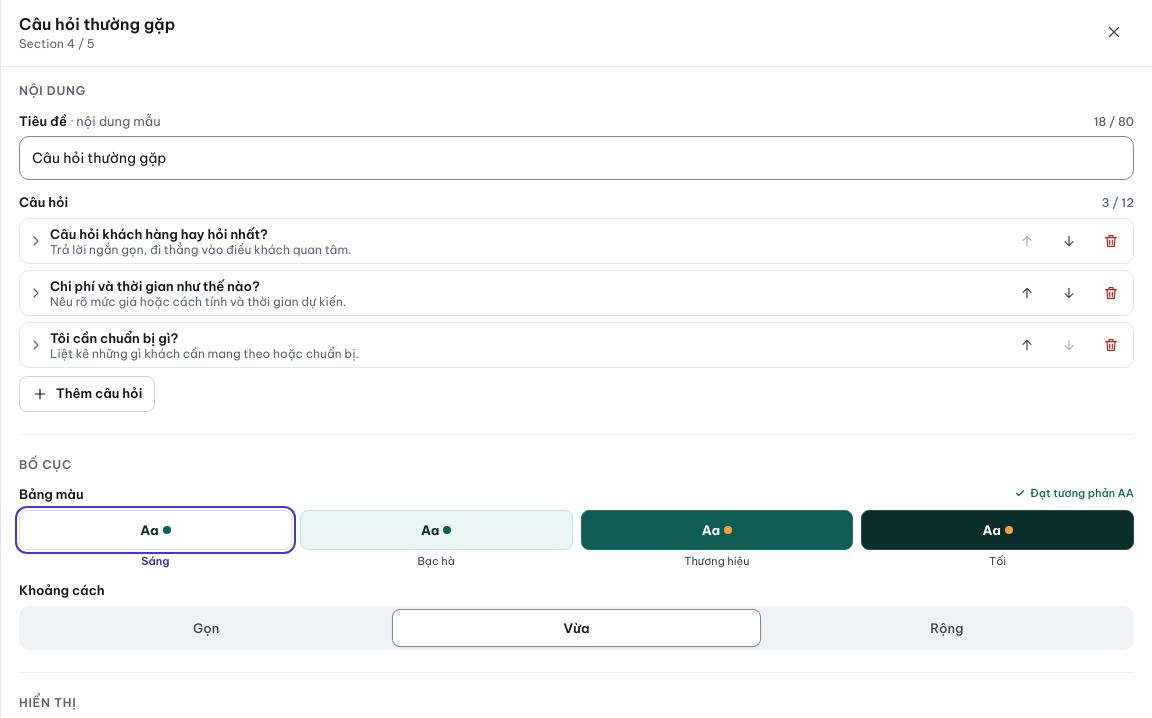
Test: PropertiesPanel › reorders list items with the arrow buttons
Check: the button named "Chuyển câu hỏi 1 lên" is disabled, box [1007,221,1047,261]
Click the button named "Chuyển câu hỏi 1 xuống": (1069, 241) [1049,221,1089,261]
(page scrolled)
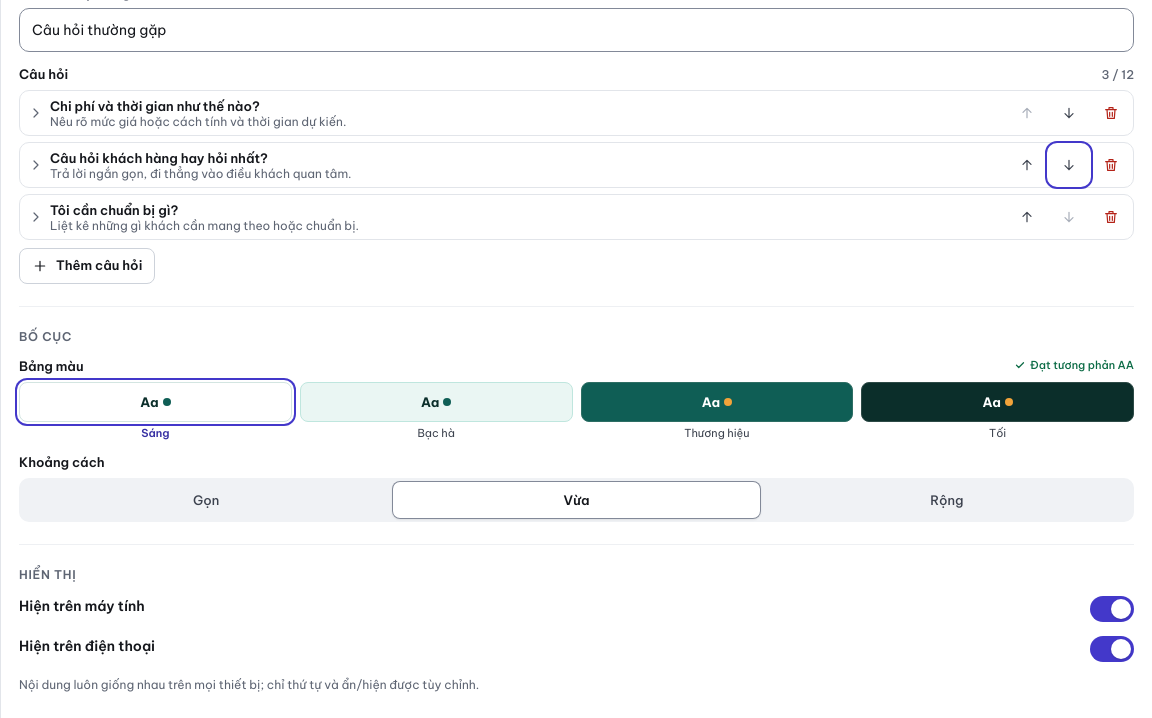
Check: the text "Câu hỏi khách hàng hay hỏi nhất?" is shown, box [50,150,268,166]
